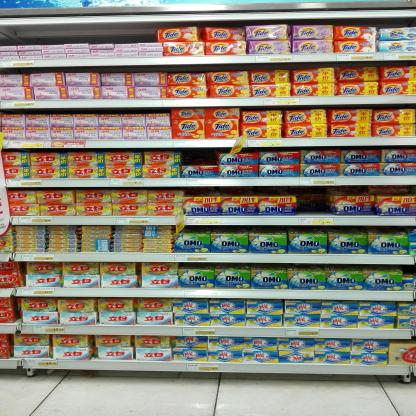Void: (0, 27, 154, 42), (185, 186, 291, 197), (297, 185, 328, 214), (184, 151, 215, 165)
